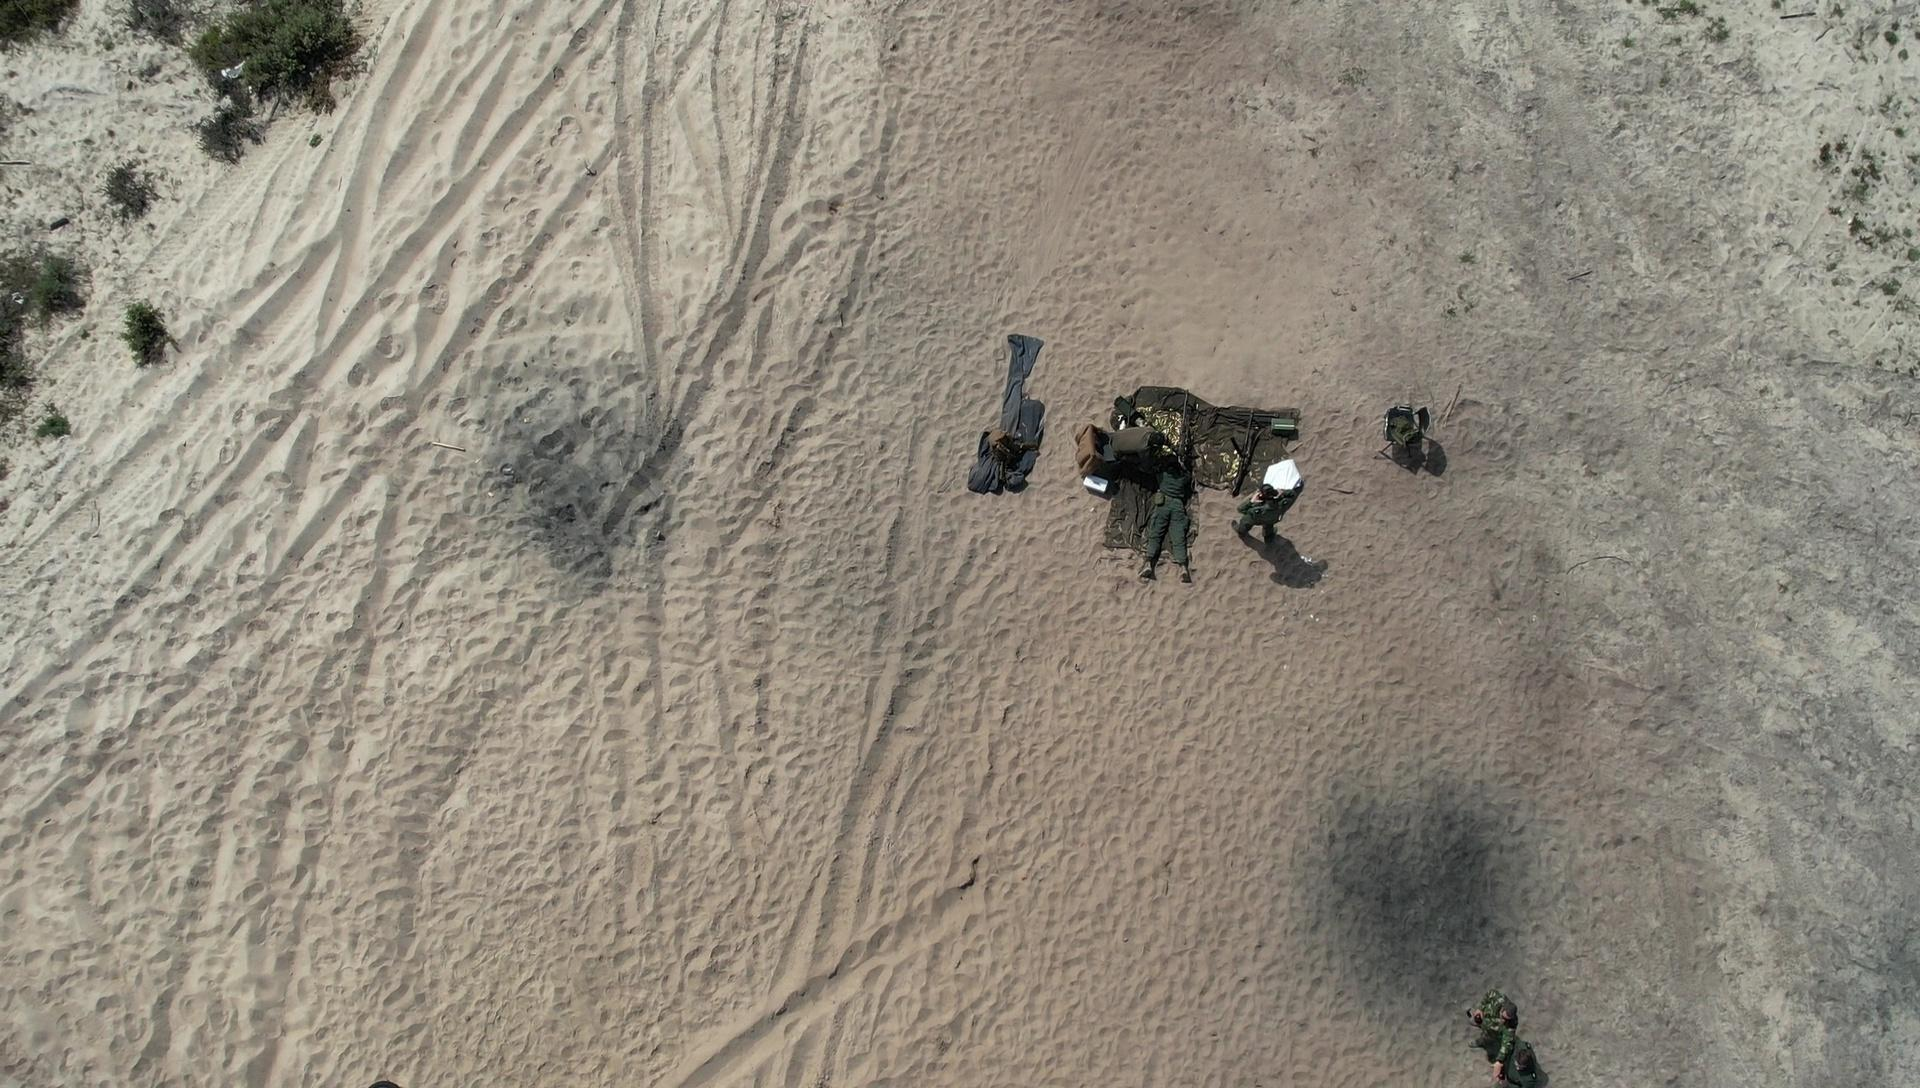Soldier: (1085, 408, 1163, 551), (1420, 975, 1494, 1072), (1100, 414, 1174, 488), (1135, 495, 1200, 578), (1427, 1050, 1503, 1088)
